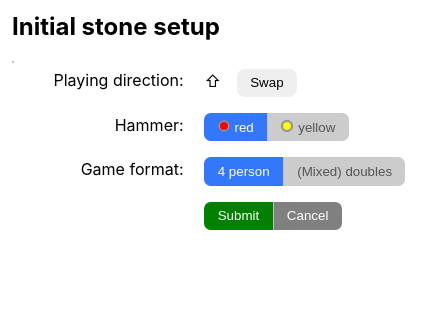
it: <StoneSetup /> › gameMode buttons › 4 person game should remove additional buttons
Click the button "(Mixed) doubles" at (345, 172), box [284,157,405,186]
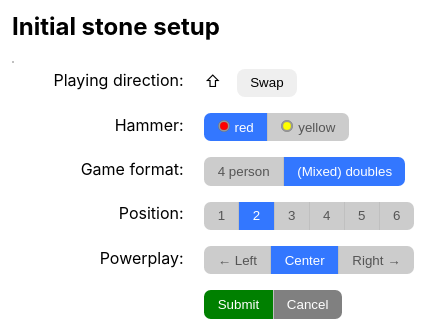
Result: the button "← Left" is shown at [204,246,271,274]
Click the button "4 person" at (244, 172), box [204,157,284,186]
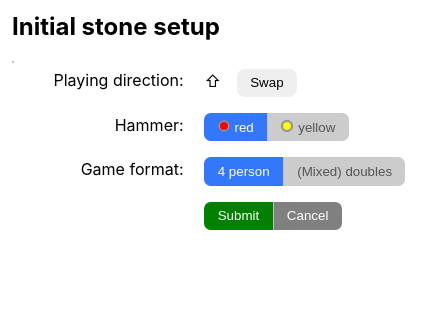
Result: the button "Left" is gone
